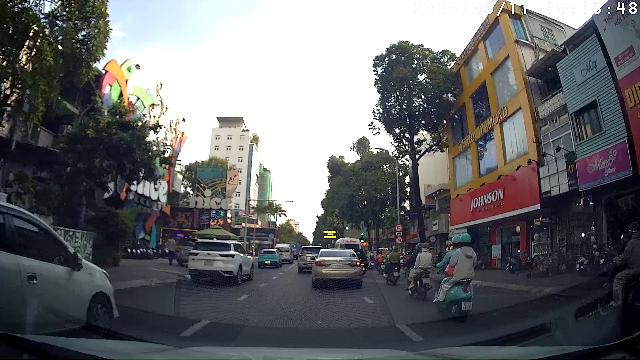123a-cam-re-trai: (395, 236, 403, 243)
123b-cam-re-phai: (396, 224, 402, 231)
